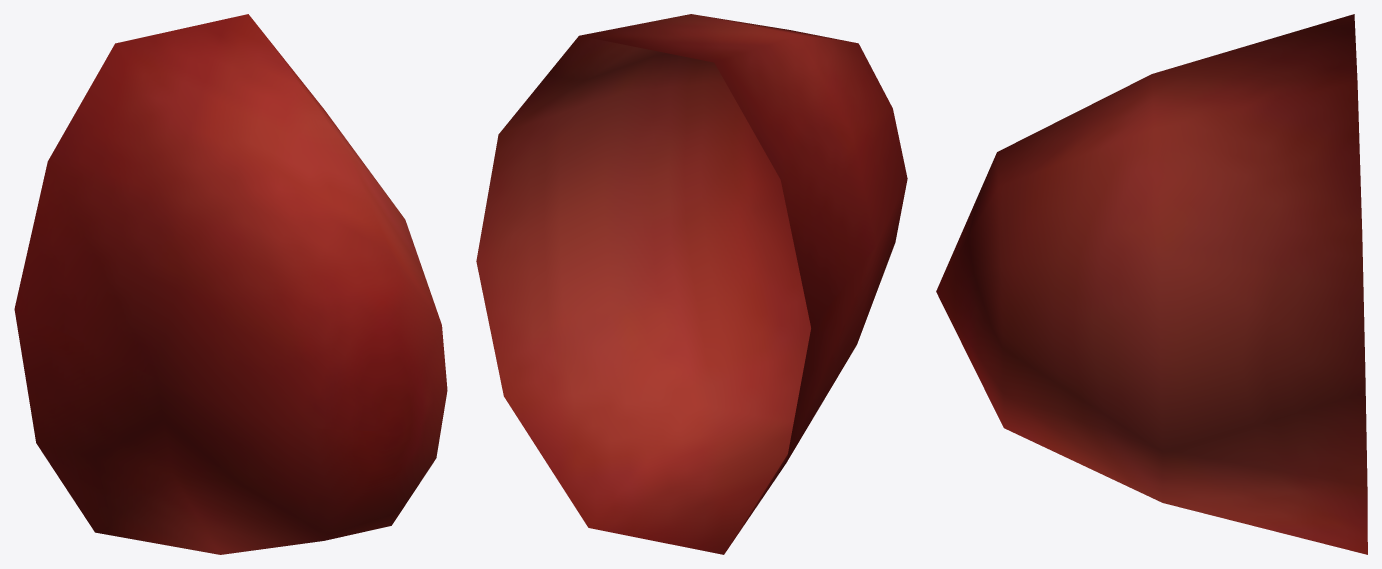
Rendered from piederpat2.obj.
3 views of the same model, side by side, from view 1: azimuth 30°, elevation 25°; view 2: azimuth 150°, elevation 25°; view 3: azimuth 270°, elevation 25° (orthographic). The views are drawn at different scales.
Visible parts, largest first — view 1: pata_izquierda; view 2: pata_izquierda; view 3: pata_izquierda.
Part boxes in pixels (box(x1,y1,x2,y2)): pata_izquierda: box(14, 14, 447, 554); pata_izquierda: box(476, 14, 907, 554); pata_izquierda: box(936, 14, 1367, 554).
Size of the model in its own units: 0.1833 by 0.2591 by 0.2097.
